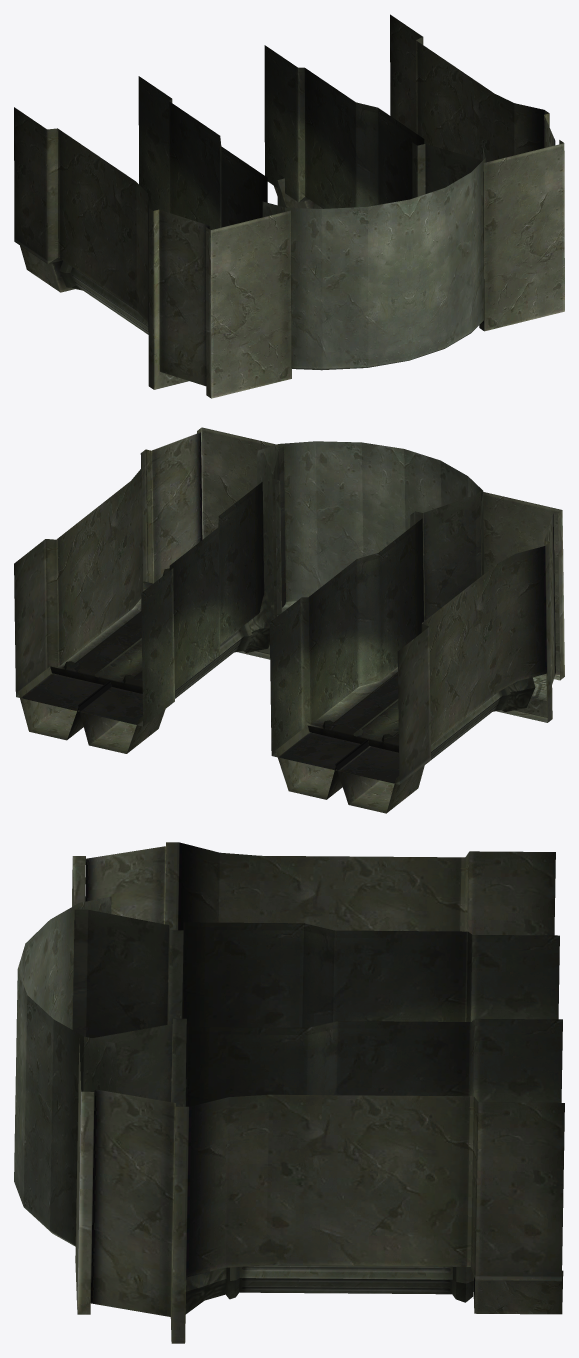
File: zhanchang_fuben_259_gongmen_01.obj
The picture shows the model from 3 angles, top to bottom: view 1: azimuth 30°, elevation 25°; view 2: azimuth 150°, elevation 25°; view 3: azimuth 270°, elevation 25°; orthographic projection. The views are drawn at different scales.
Parts seen in each view (by area): view 1: DrawCall_0044; view 2: DrawCall_0044; view 3: DrawCall_0044.
Part boxes in pixels (bbox=[...]): DrawCall_0044: bbox=[14, 14, 564, 398]; DrawCall_0044: bbox=[14, 427, 564, 813]; DrawCall_0044: bbox=[14, 842, 564, 1343].
Bounding box in the file's own units: 406 × 178 × 361.
Materials: 4 (4 with a texture image).
